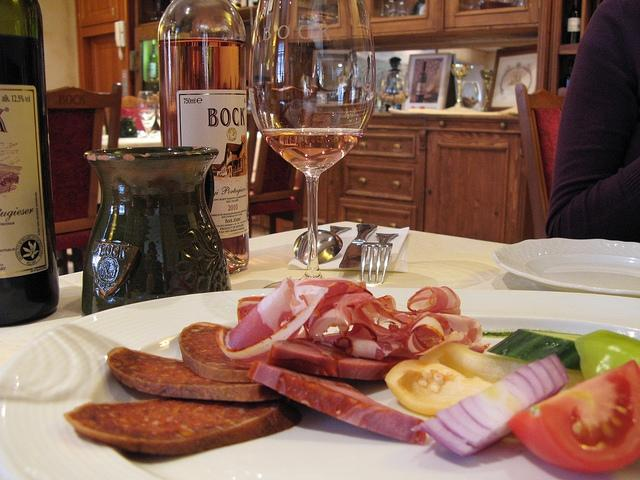bell pepper: (386, 342, 524, 416), (574, 330, 638, 380)
onion: (410, 352, 570, 456)
tomato: (507, 360, 640, 474)
